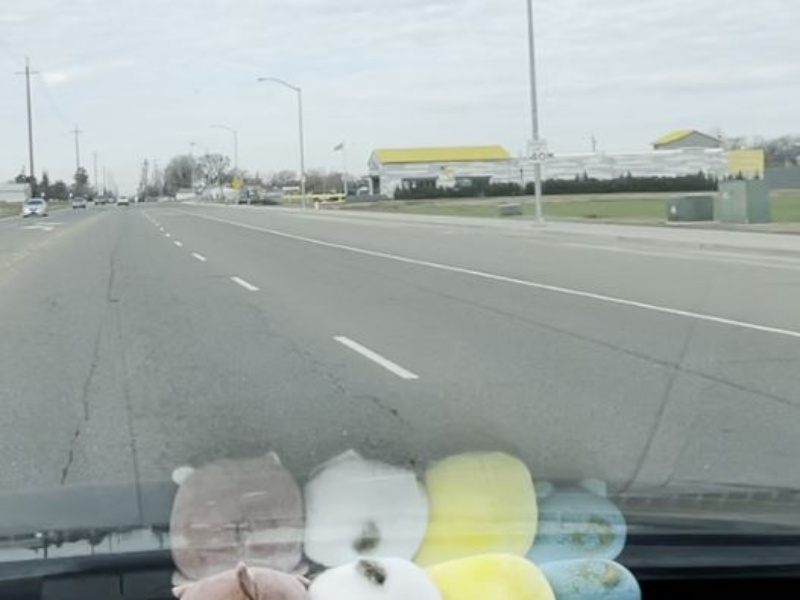speed limit sign: (522, 136, 551, 168)
